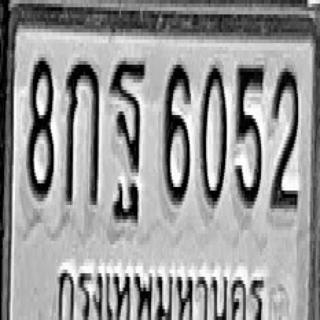A01: (65, 58, 99, 205)
A16: (110, 58, 146, 201)
N00: (199, 63, 227, 207)
N02: (269, 65, 298, 209)
N05: (235, 63, 264, 207)
N06: (163, 61, 190, 201)
N08: (26, 54, 54, 198)
P04: (52, 256, 268, 320)
